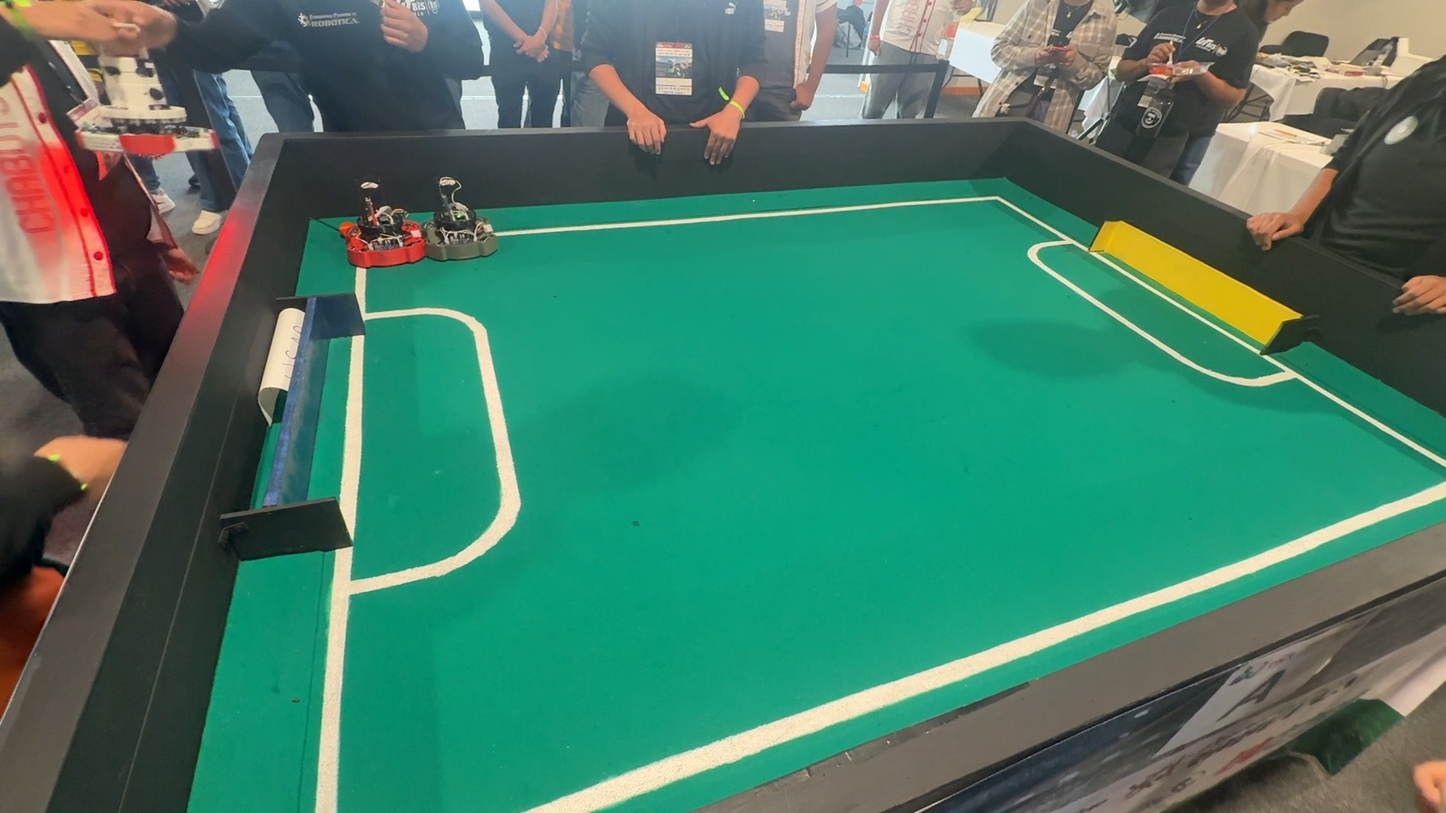Robot: (334, 177, 421, 268), (424, 173, 506, 268)
